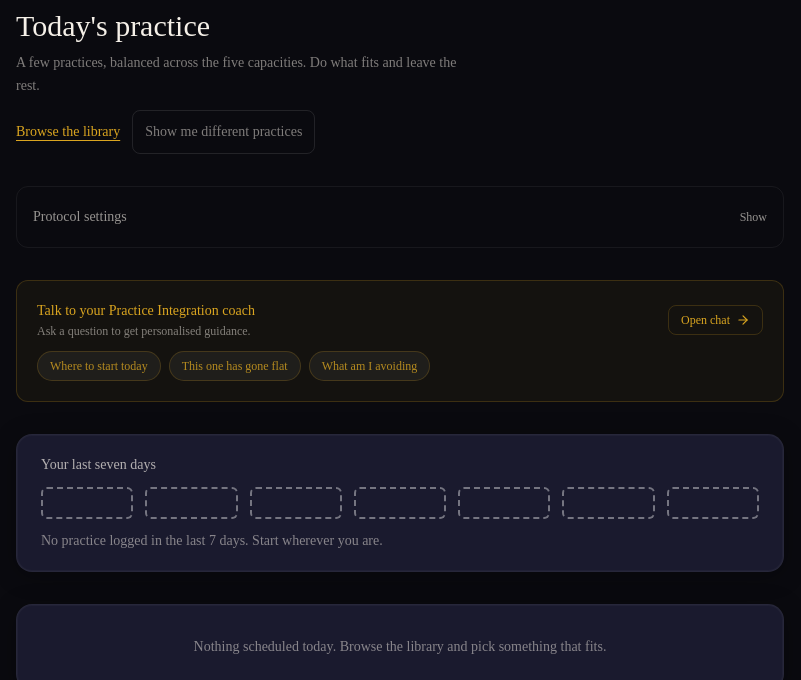
Test: practice page settings block › opens the settings on the page it belongs to
The width and height of the screenshot is (801, 680).
Click the button "Protocol settings Show": click(80, 216) [33,194,767,238]
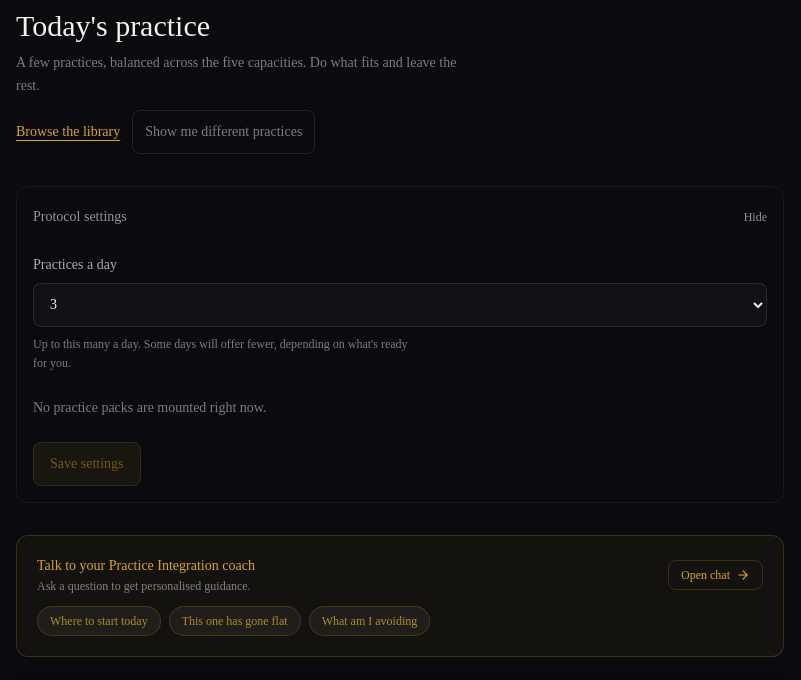
Expected: the dropdown labelled "Practices a day" shows "3", [33,282,767,326]
Expected: the button "Save settings" is shown, [33,442,140,486]
